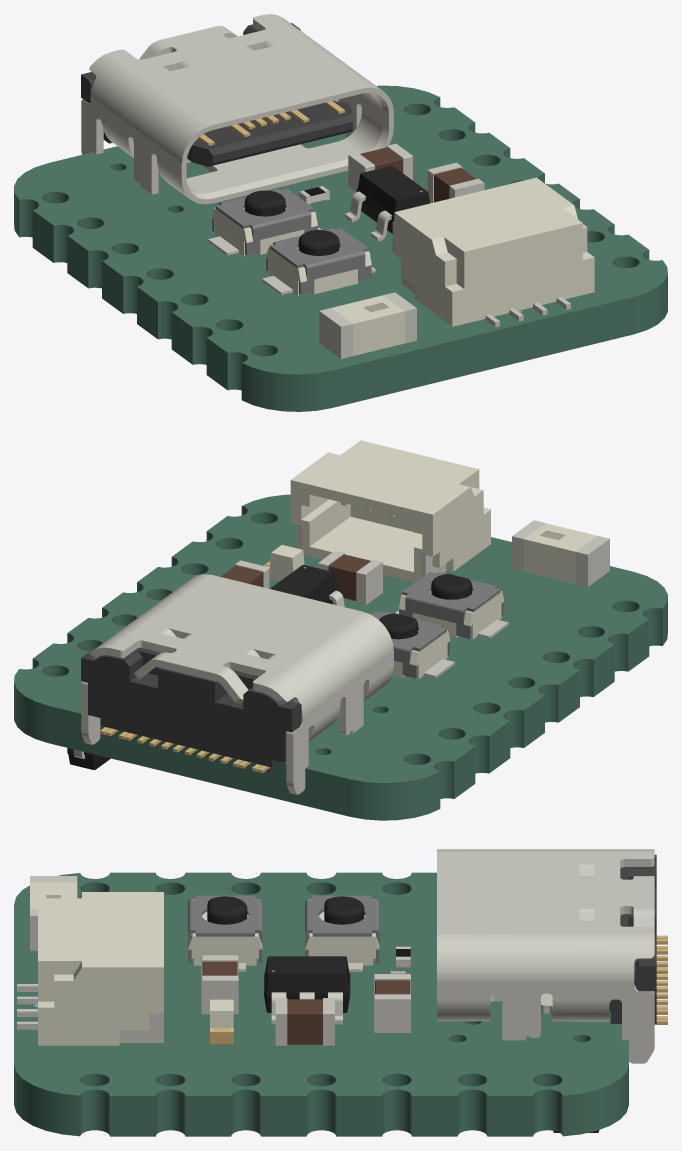
The model's file is qt-py-esp32-s2-assembled.glb.
3 views of the same model, one above another, from view 1: azimuth 30°, elevation 25°; view 2: azimuth 150°, elevation 25°; view 3: azimuth 270°, elevation 25° (orthographic). The views are drawn at different scales.
Parts seen in each view (by area): view 1: =>[0:1:1:42], =>[0:1:1:7], =>[0:1:1:15], =>[0:1:1:9] (×2), =>[0:1:1:13], =>[0:1:1:3], =>[0:1:1:5] (×2); view 2: =>[0:1:1:42], =>[0:1:1:7], =>[0:1:1:15], =>[0:1:1:9] (×2), =>[0:1:1:13], =>[0:1:1:5] (×2), =>[0:1:1:3], =>[0:1:1:19], =>[0:1:1:27]; view 3: =>[0:1:1:42], =>[0:1:1:7], =>[0:1:1:15], =>[0:1:1:9] (×2), =>[0:1:1:5] (×3), =>[0:1:1:3], =>[0:1:1:13], =>[0:1:1:19].
Boxes of the visible parts, x1=… form: =>[0:1:1:42]: x1=14, y1=85, x2=667, y2=411; =>[0:1:1:7]: x1=81, y1=14, x2=393, y2=204; =>[0:1:1:15]: x1=394, y1=177, x2=594, y2=327; =>[0:1:1:9] (×2): x1=208, y1=188, x2=375, y2=295; =>[0:1:1:13]: x1=319, y1=292, x2=416, y2=358; =>[0:1:1:3]: x1=344, y1=165, x2=429, y2=241; =>[0:1:1:5] (×2): x1=348, y1=143, x2=484, y2=202; =>[0:1:1:42]: x1=14, y1=494, x2=667, y2=820; =>[0:1:1:7]: x1=81, y1=574, x2=393, y2=794; =>[0:1:1:15]: x1=290, y1=440, x2=490, y2=582; =>[0:1:1:9] (×2): x1=371, y1=572, x2=508, y2=678; =>[0:1:1:13]: x1=512, y1=520, x2=609, y2=586; =>[0:1:1:5] (×2): x1=221, y1=550, x2=382, y2=604; =>[0:1:1:3]: x1=270, y1=565, x2=344, y2=606; =>[0:1:1:19]: x1=263, y1=545, x2=304, y2=581; =>[0:1:1:27]: x1=67, y1=748, x2=110, y2=769; =>[0:1:1:42]: x1=14, y1=872, x2=628, y2=1136; =>[0:1:1:7]: x1=437, y1=849, x2=667, y2=1063; =>[0:1:1:15]: x1=17, y1=892, x2=163, y2=1045; =>[0:1:1:9] (×2): x1=188, y1=895, x2=379, y2=971; =>[0:1:1:5] (×3): x1=201, y1=955, x2=410, y2=1046; =>[0:1:1:3]: x1=264, y1=956, x2=350, y2=1024; =>[0:1:1:13]: x1=30, y1=876, x2=77, y2=950; =>[0:1:1:19]: x1=210, y1=999, x2=233, y2=1044.
Size of the model in its own units: 0.0178 by 0.0061 by 0.022.
